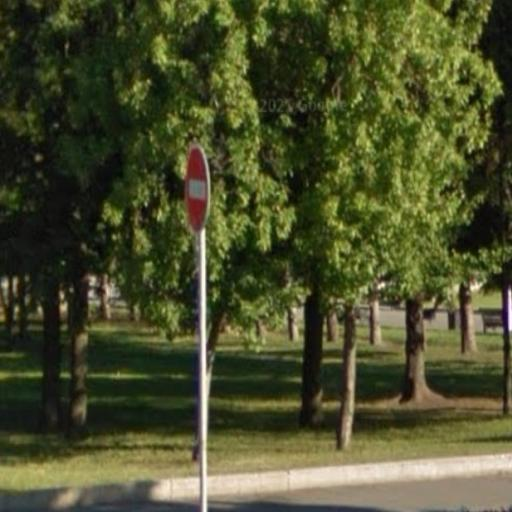traffic_sign: (184, 141, 215, 238)
